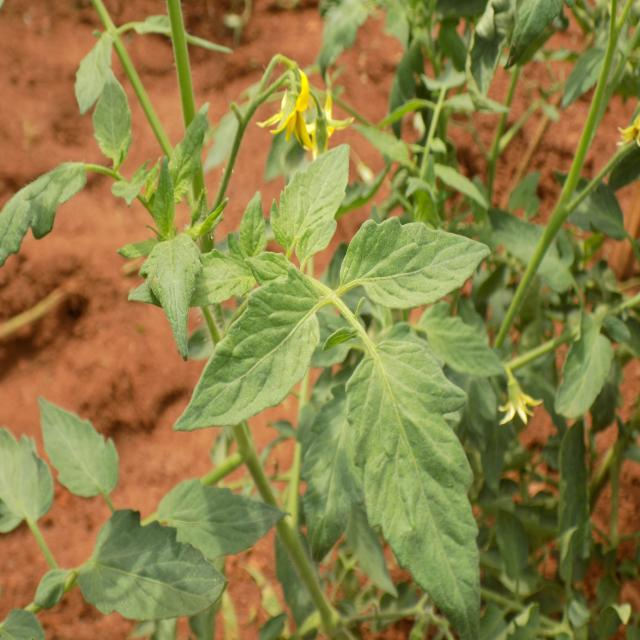tomato_healthy: (348, 340, 497, 638), (173, 283, 324, 434), (81, 510, 226, 621), (341, 213, 494, 310), (268, 139, 354, 257), (147, 232, 210, 358)
